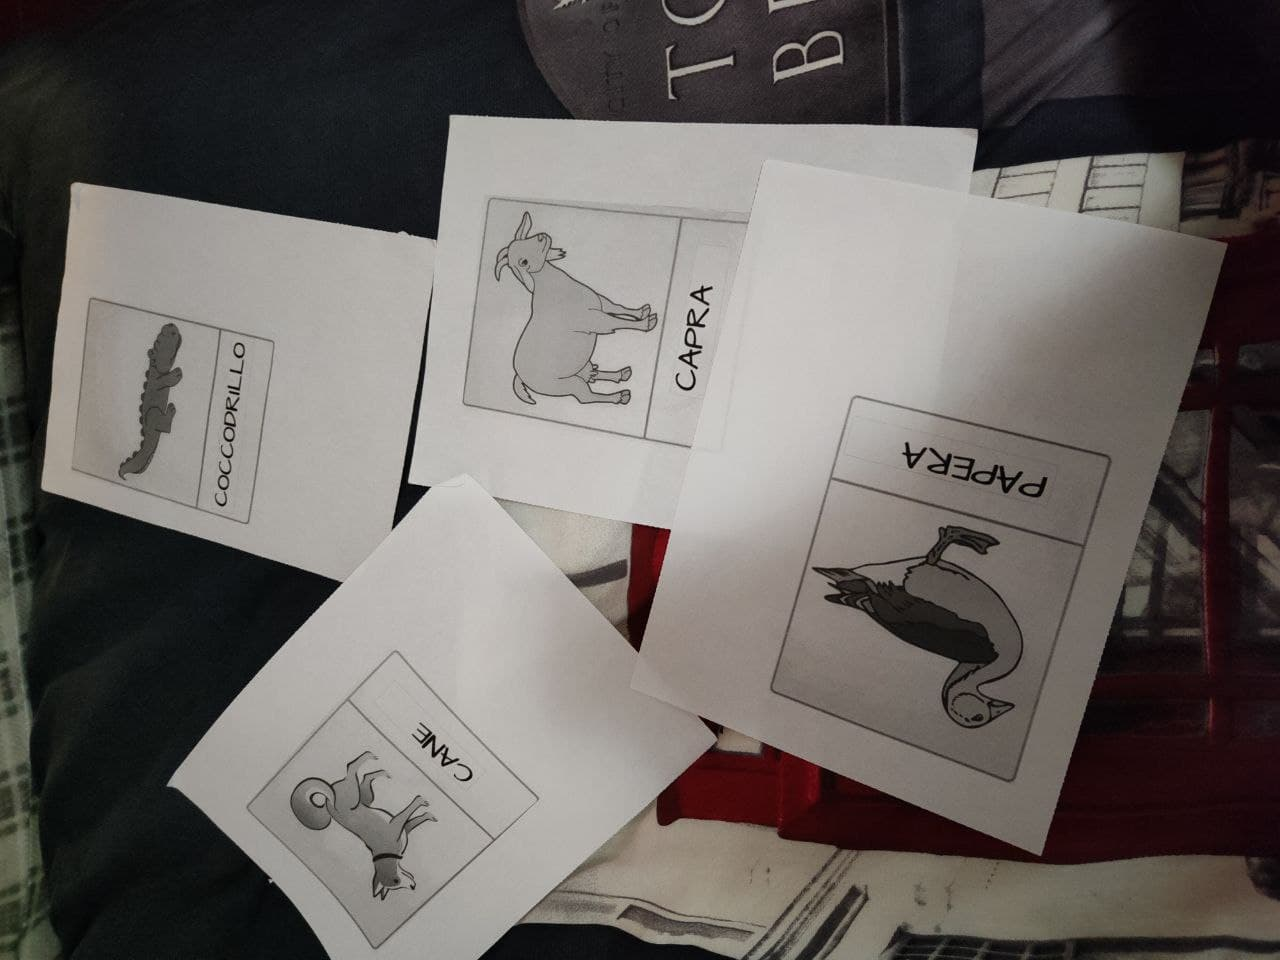cane: (259, 698, 517, 915)
capra: (477, 194, 744, 455)
coccodrillo: (73, 313, 288, 522)
papera: (808, 406, 1063, 759)
